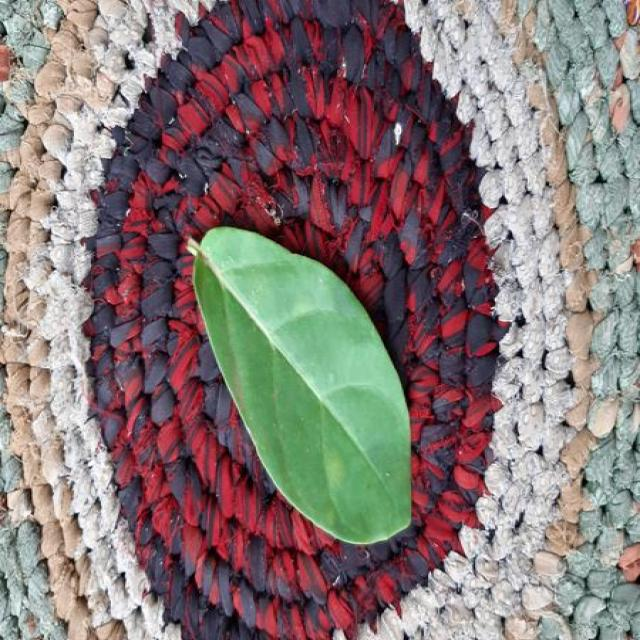ekka: (190, 228, 412, 544)
